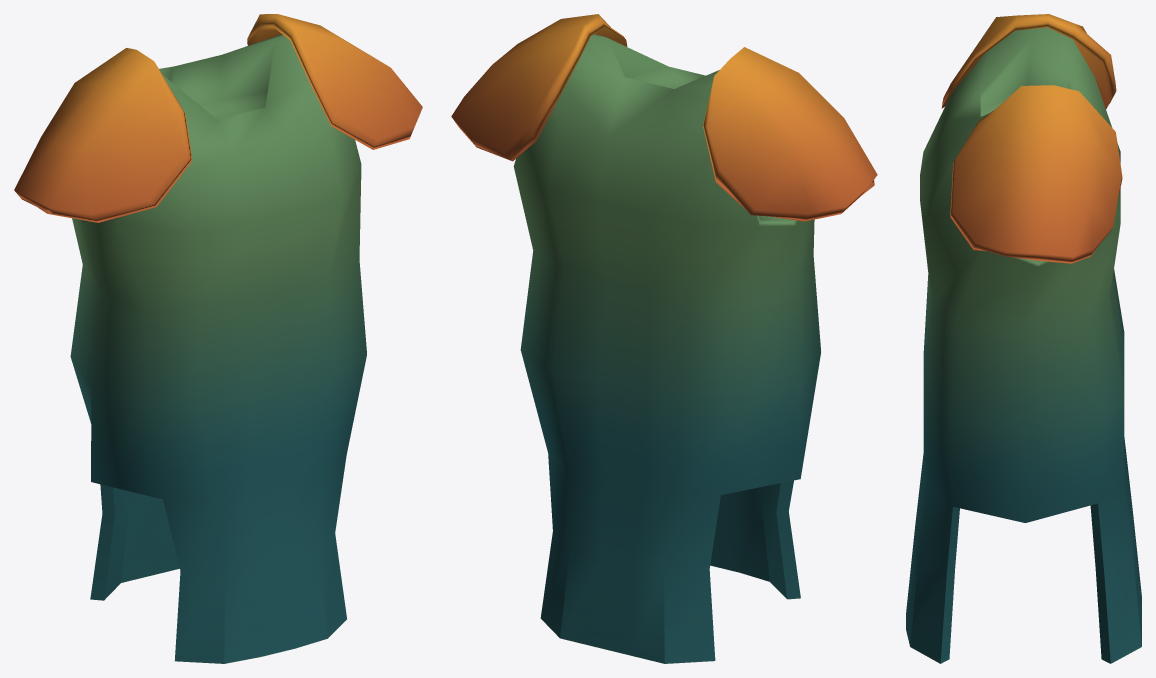
The model's file is Chest02.fbx.
3 renders of one model, left to right at view 1: azimuth 30°, elevation 25°; view 2: azimuth 150°, elevation 25°; view 3: azimuth 270°, elevation 25°, orthographic.
Visible parts, largest first — view 1: Chest02; view 2: Chest02; view 3: Chest02.
Boxes of the visible parts, bbox=[...] form: Chest02: bbox=[14, 14, 422, 663]; Chest02: bbox=[451, 14, 877, 663]; Chest02: bbox=[906, 14, 1141, 663].
Bounding box in the file's own units: 62.15 × 86.81 × 32.39.
Materials: 1 (1 with a texture image).
